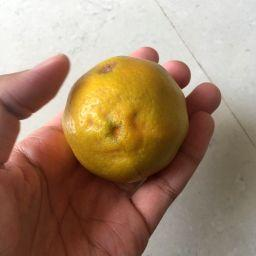Ripe: (67, 57, 187, 184)
